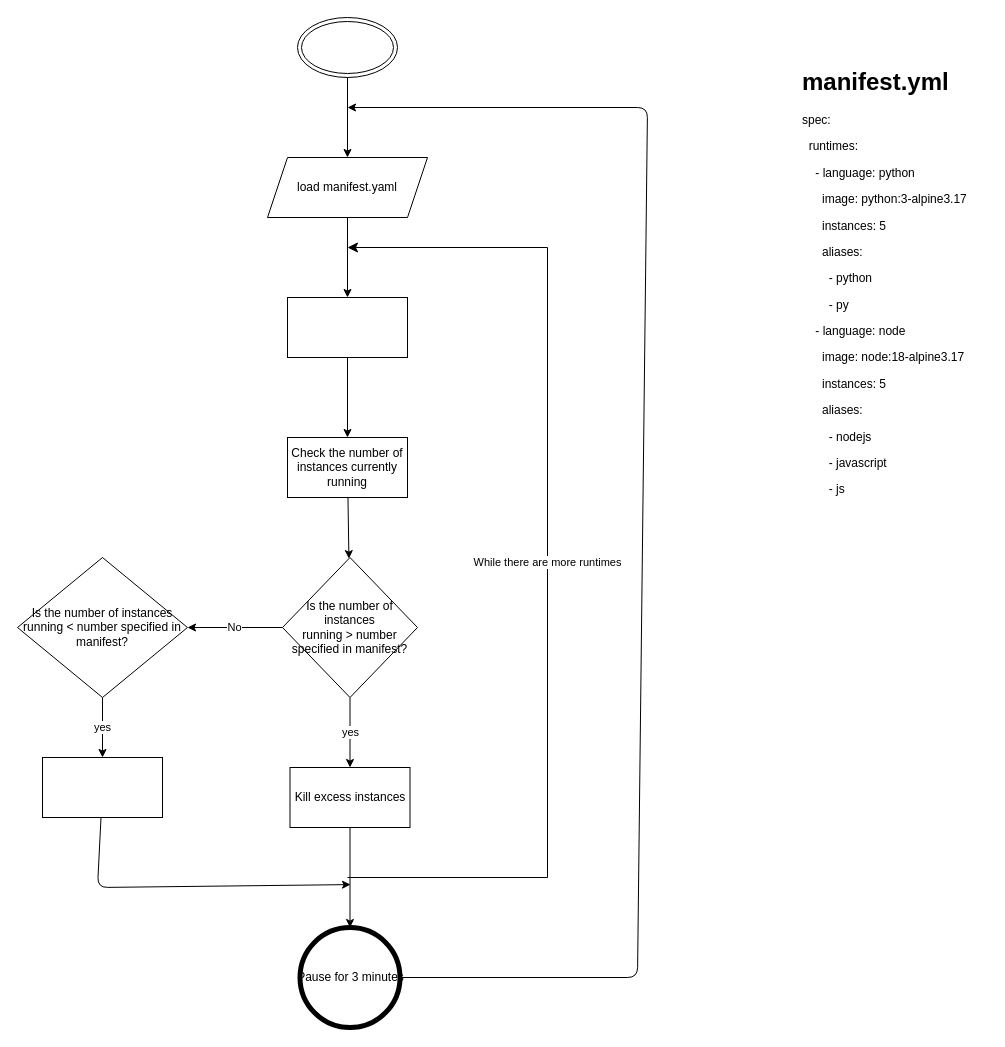
Some shapes in this 1005 by 1047 pixel diagram are drawn without their labels. The centre of each missing label's shape, as x and y in pixels:
"Add more instances" belongs at pixel 102 787.
"Get runtime information. Eg, python" belongs at pixel 347 327.
"Start" belongs at pixel 347 47.
